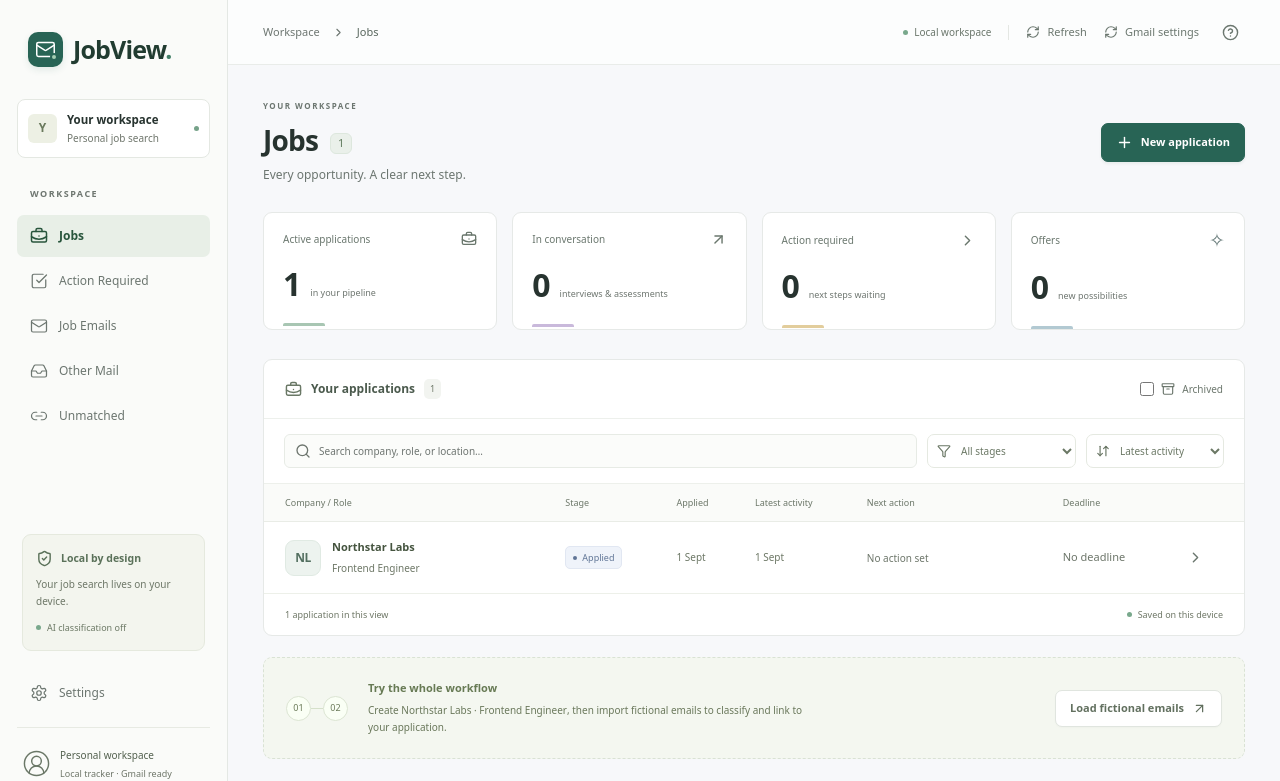
Test: desktop workflow UI › archives and restores a job through the same persisted command
This screenshot has width=1280, height=781.
What coordinates should you click on to do the following:
click the button named "Open Northstar Labs Frontend Engineer"
I would click on:
 (1195, 558)
Its box is [1181,543,1210,572].
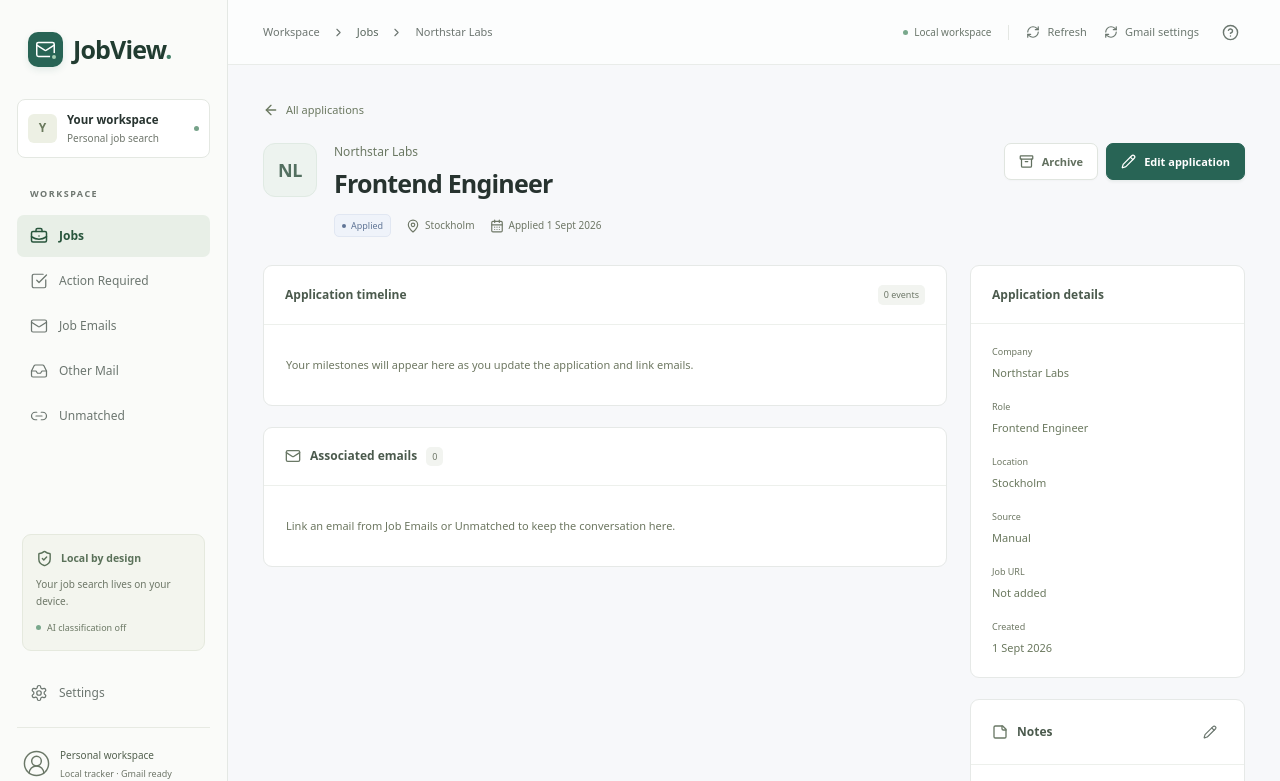
What coordinates should you click on to do the following:
click the button "Archive"
I would click on:
 (1051, 162)
Its box is [1004,143,1098,180].
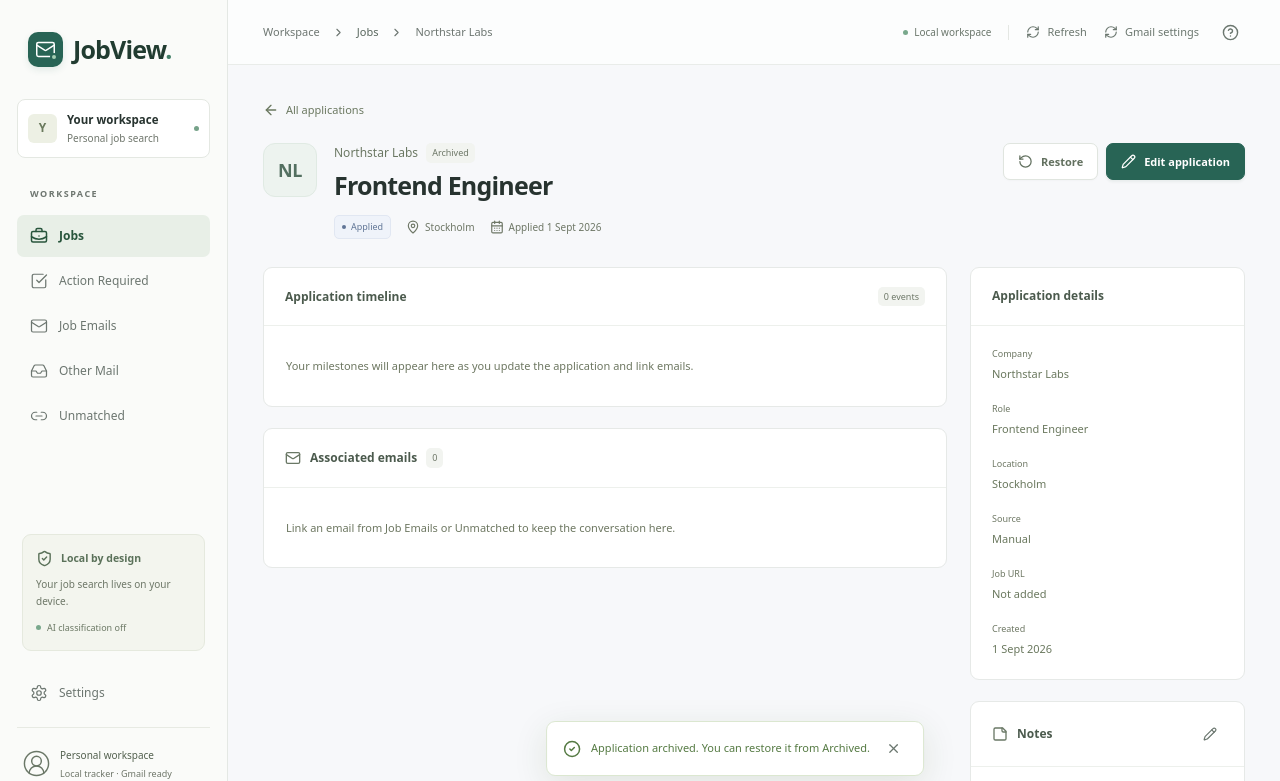
expect the button "Restore" is shown: met
What coordinates should you click on to do the following:
click the button "Restore"
I would click on:
 (1051, 162)
Its box is [1003,143,1098,180].
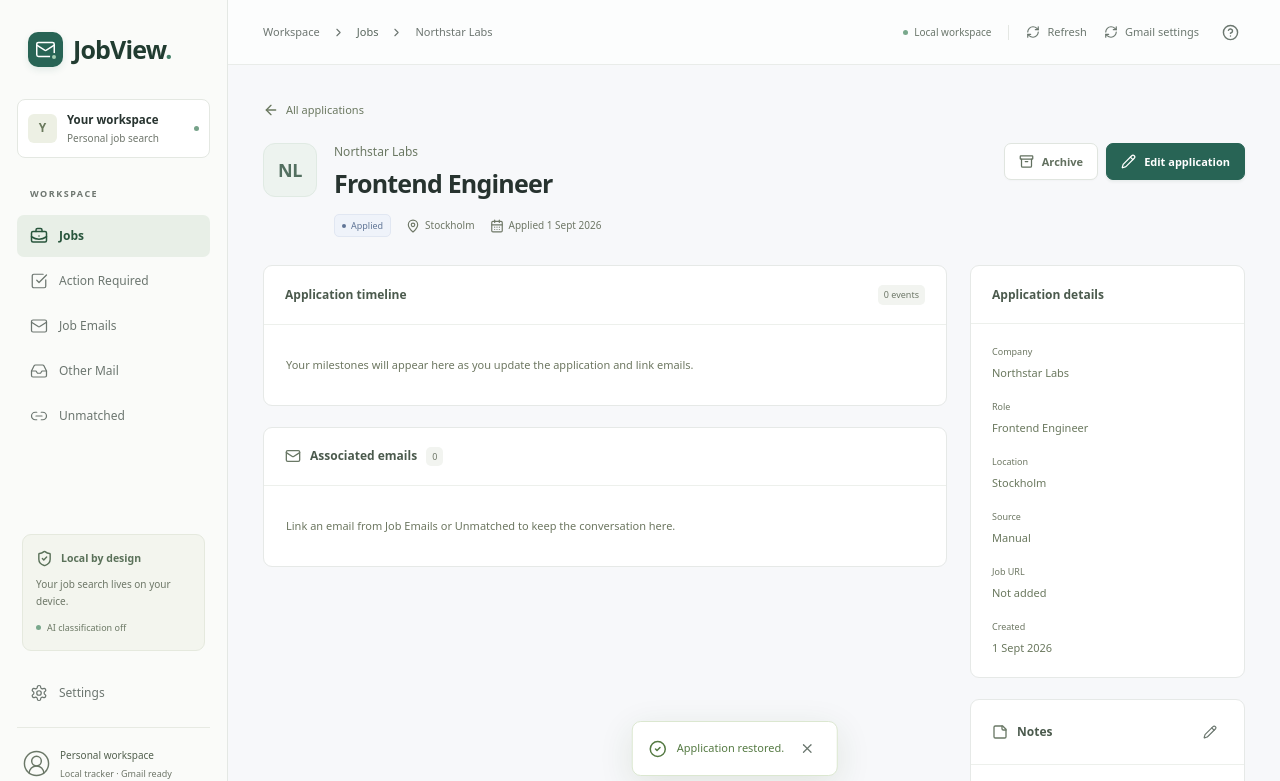
expect the button "Archive" is shown: met, box [1004,143,1098,180]
